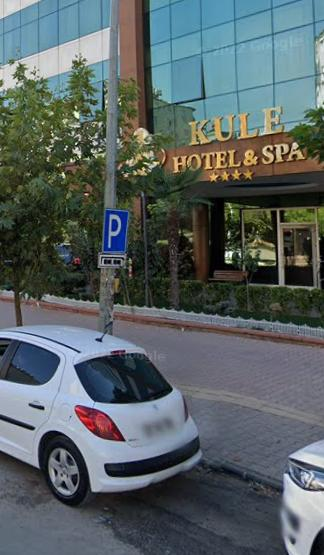park: (105, 212, 128, 252)
